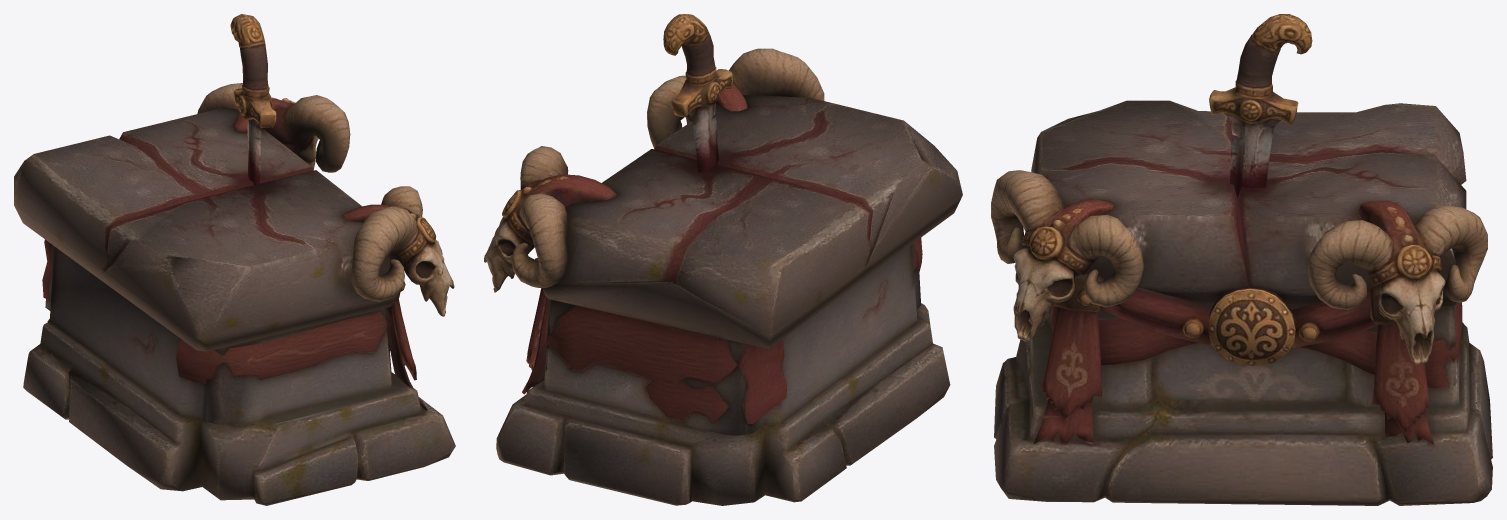
Rendered from n_kansunak.glb.
3 views of the same model, side by side, from view 1: azimuth 30°, elevation 25°; view 2: azimuth 150°, elevation 25°; view 3: azimuth 270°, elevation 25° (orthographic). The views are drawn at different scales.
Parts seen in each view (by area): view 1: tripo_node_49f301da-3109-40fc-8f21-53c705bb3008; view 2: tripo_node_49f301da-3109-40fc-8f21-53c705bb3008; view 3: tripo_node_49f301da-3109-40fc-8f21-53c705bb3008.
Boxes of the visible parts, x1=… form: tripo_node_49f301da-3109-40fc-8f21-53c705bb3008: x1=14, y1=14, x2=455, y2=505; tripo_node_49f301da-3109-40fc-8f21-53c705bb3008: x1=484, y1=14, x2=962, y2=505; tripo_node_49f301da-3109-40fc-8f21-53c705bb3008: x1=991, y1=14, x2=1492, y2=505.
Size of the model in its own units: 0.7871 by 0.955 by 0.998.
1 material, 1 textured.
